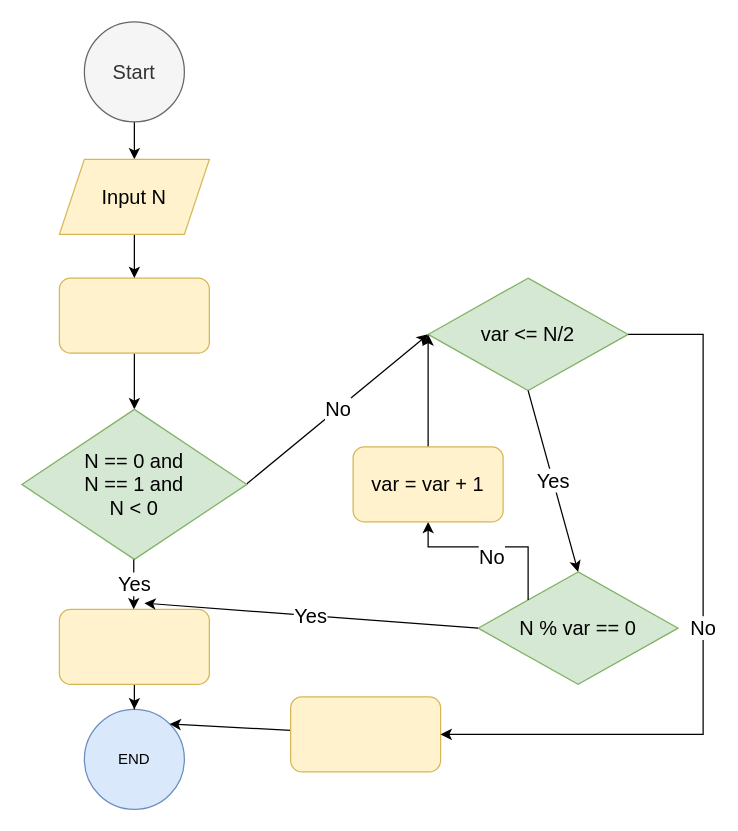
The diagram is 738 pixels wide and 831 high, and some of its shapes have lost their labels. The box of each missing label's shape, as (x1, y1, x2, y2) in pixels:
Not Prime Number: (58, 608, 209, 684)
Prime Number: (289, 696, 441, 772)
var = 2: (58, 277, 209, 353)
